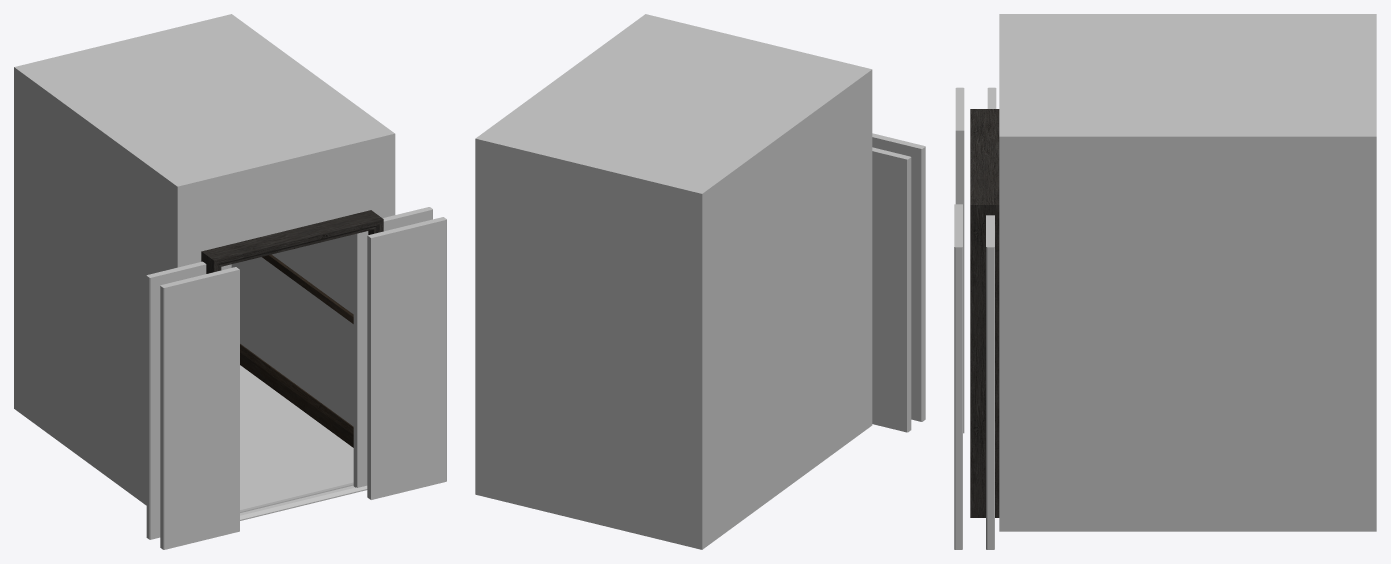
The model's file is elevator_1.fbx.
The picture shows the model from 3 angles, left to right: view 1: azimuth 30°, elevation 25°; view 2: azimuth 150°, elevation 25°; view 3: azimuth 270°, elevation 25°; orthographic projection. The views are drawn at different scales.
Parts seen in each view (by area): view 1: elevator_1, elevator_door_1_a, elevator_door_1_b, elevator_door_2_b, elevator_door_2_a; view 2: elevator_1, elevator_door_2_b, elevator_door_1_b; view 3: elevator_1, elevator_door_1_a, elevator_door_2_a, elevator_door_1_b.
Part boxes in pixels (x1=…): elevator_1: x1=14, y1=14, x2=395, y2=520; elevator_door_1_a: x1=367, y1=217, x2=446, y2=499; elevator_door_1_b: x1=160, y1=267, x2=239, y2=549; elevator_door_2_b: x1=146, y1=261, x2=225, y2=539; elevator_door_2_a: x1=353, y1=207, x2=432, y2=487; elevator_1: x1=475, y1=14, x2=872, y2=549; elevator_door_2_b: x1=872, y1=147, x2=911, y2=432; elevator_door_1_b: x1=872, y1=133, x2=925, y2=421; elevator_1: x1=970, y1=14, x2=1376, y2=531; elevator_door_1_a: x1=954, y1=204, x2=962, y2=549; elevator_door_2_a: x1=986, y1=215, x2=994, y2=549; elevator_door_1_b: x1=955, y1=87, x2=964, y2=433.
Size of the model in its own units: 2.6 by 3 by 2.91.
